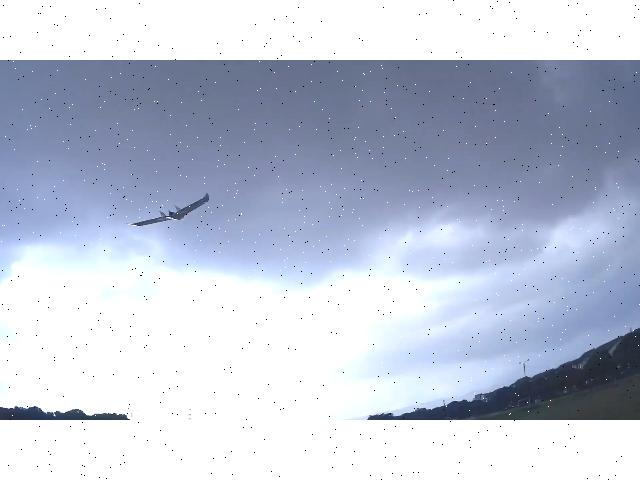Anti-Drone: (124, 194, 210, 226)
